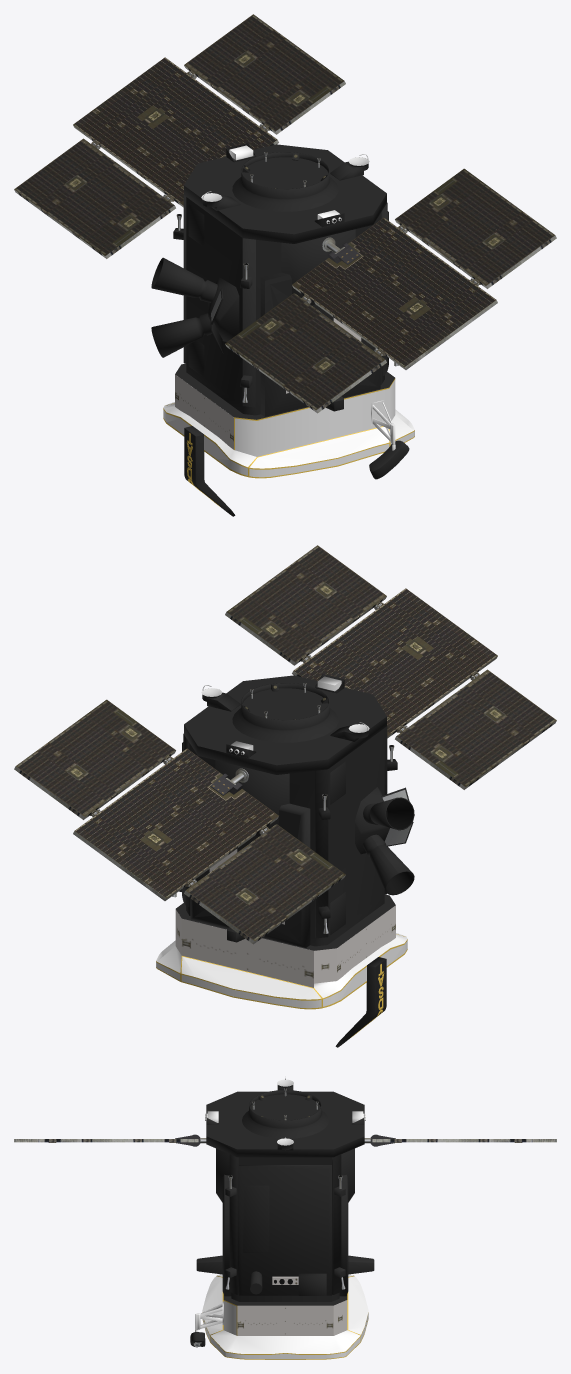
The model's file is cloudsat.glb.
3 views of the same model, one above another, from view 1: azimuth 30°, elevation 25°; view 2: azimuth 150°, elevation 25°; view 3: azimuth 270°, elevation 25° (orthographic). The views are drawn at different scales.
Visible parts, largest first — view 1: BUS; view 2: BUS; view 3: BUS.
Boxes of the visible parts, x1,y1,x2,y2 form: BUS: (14, 14, 556, 516); BUS: (14, 545, 556, 1047); BUS: (14, 1076, 556, 1359).
Size of the model in its own units: 2.21 by 2.95 by 5.08.
7 materials, 4 textured.
